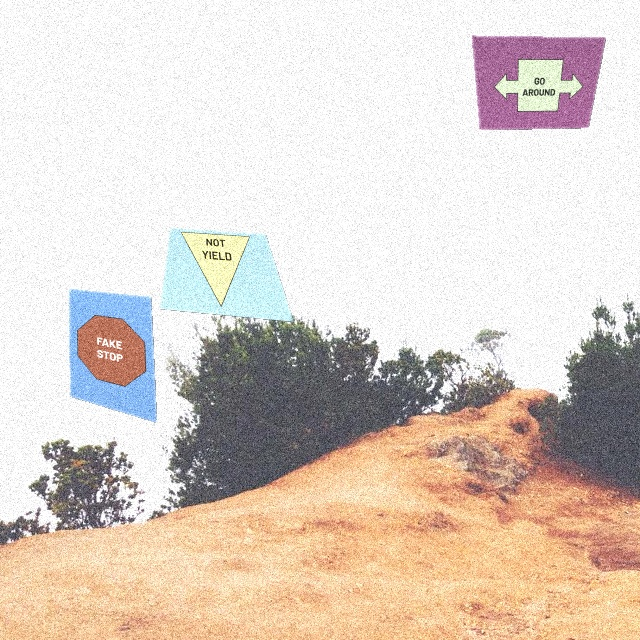FAKE_STOP: (76, 311, 148, 392)
GO_AROUND: (493, 59, 587, 112)
NOT_YIELD: (176, 232, 268, 311)
